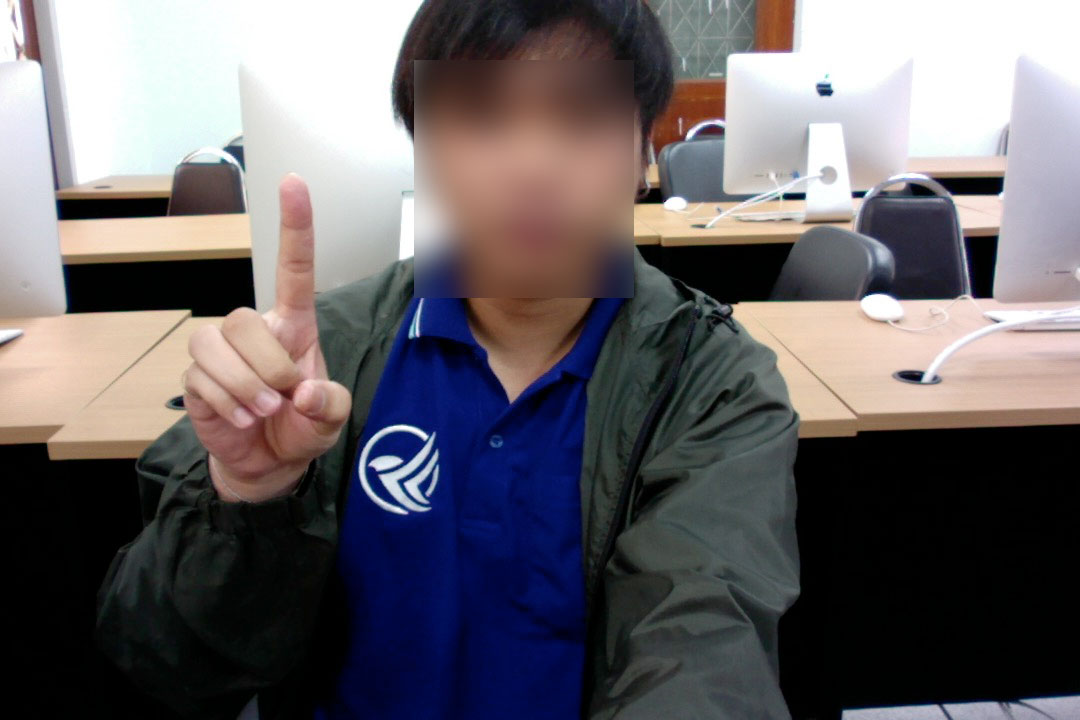dor: (179, 166, 356, 496)
